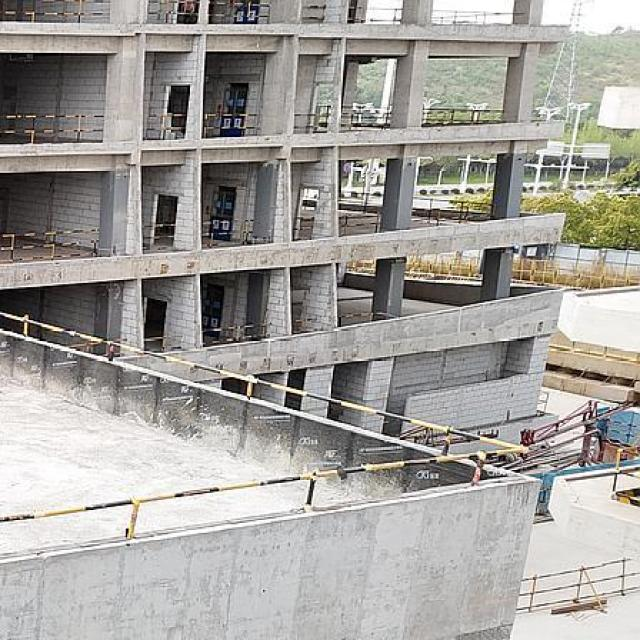edge_guardrail: (0, 312, 531, 540), (0, 228, 100, 263), (0, 114, 106, 144), (0, 0, 110, 23), (420, 107, 503, 127), (201, 218, 256, 248), (202, 321, 269, 345), (410, 207, 491, 226), (208, 0, 271, 24), (202, 113, 258, 138), (611, 445, 640, 492), (431, 9, 514, 25), (147, 0, 200, 23), (339, 105, 394, 125), (294, 105, 330, 132), (338, 212, 382, 234), (412, 196, 492, 208), (69, 337, 128, 353), (159, 113, 188, 140), (291, 217, 316, 242), (366, 7, 404, 22), (141, 223, 176, 238), (338, 190, 369, 206), (292, 318, 317, 335), (301, 4, 326, 20), (338, 311, 373, 322), (347, 6, 364, 23), (144, 336, 170, 340)
